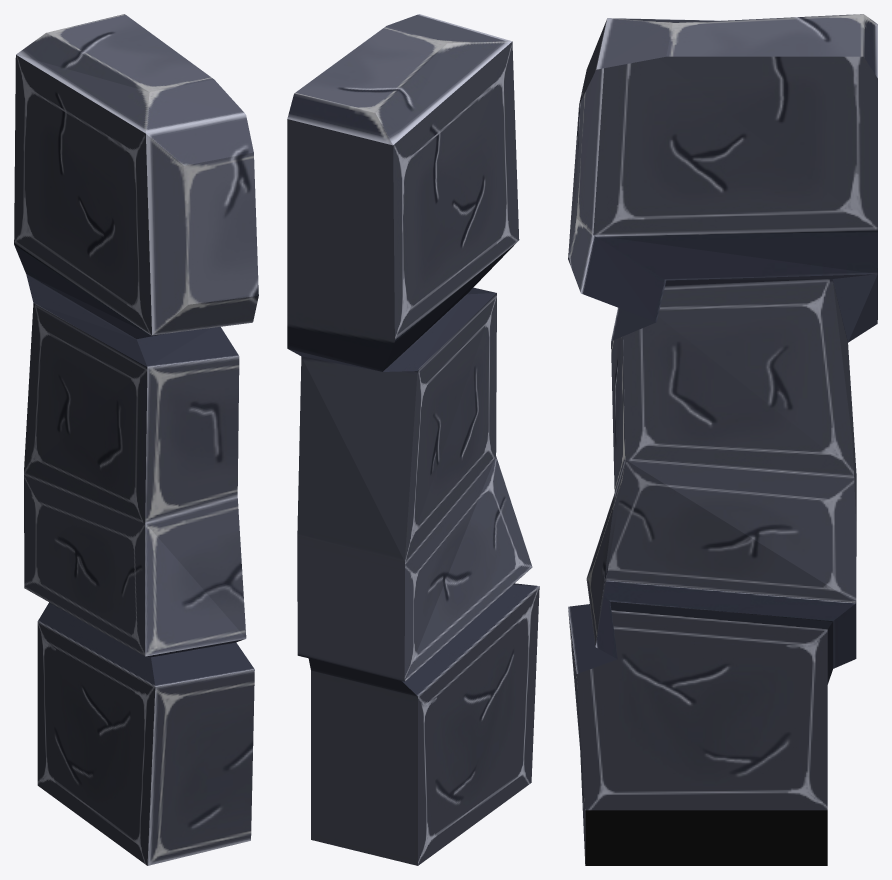
File: pilar 2.FBX
3 views of the same model, side by side, from view 1: azimuth 30°, elevation 25°; view 2: azimuth 150°, elevation 25°; view 3: azimuth 270°, elevation 25° (orthographic). The views are drawn at different scales.
Visible parts, largest first — view 1: Object006; view 2: Object006; view 3: Object006.
Part boxes in pixels (bbox=[...]): Object006: bbox=[14, 14, 258, 865]; Object006: bbox=[287, 14, 539, 865]; Object006: bbox=[568, 14, 877, 865].
Bounding box in the file's own units: 47.52 × 316 × 110.
